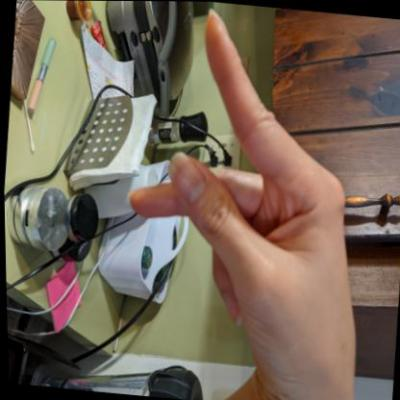hand: (107, 1, 389, 382)
